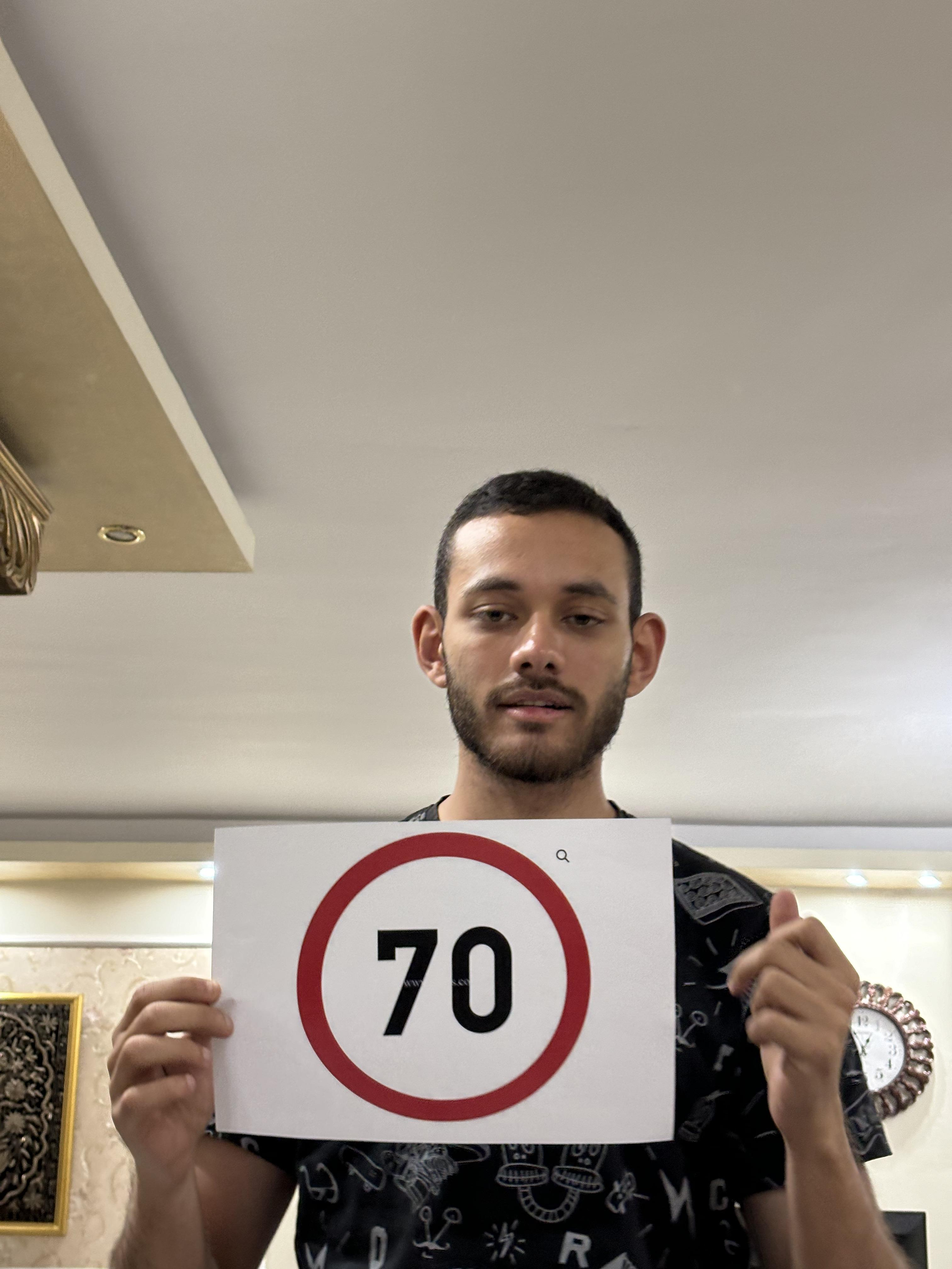70-Speed: (291, 825, 602, 1127)
